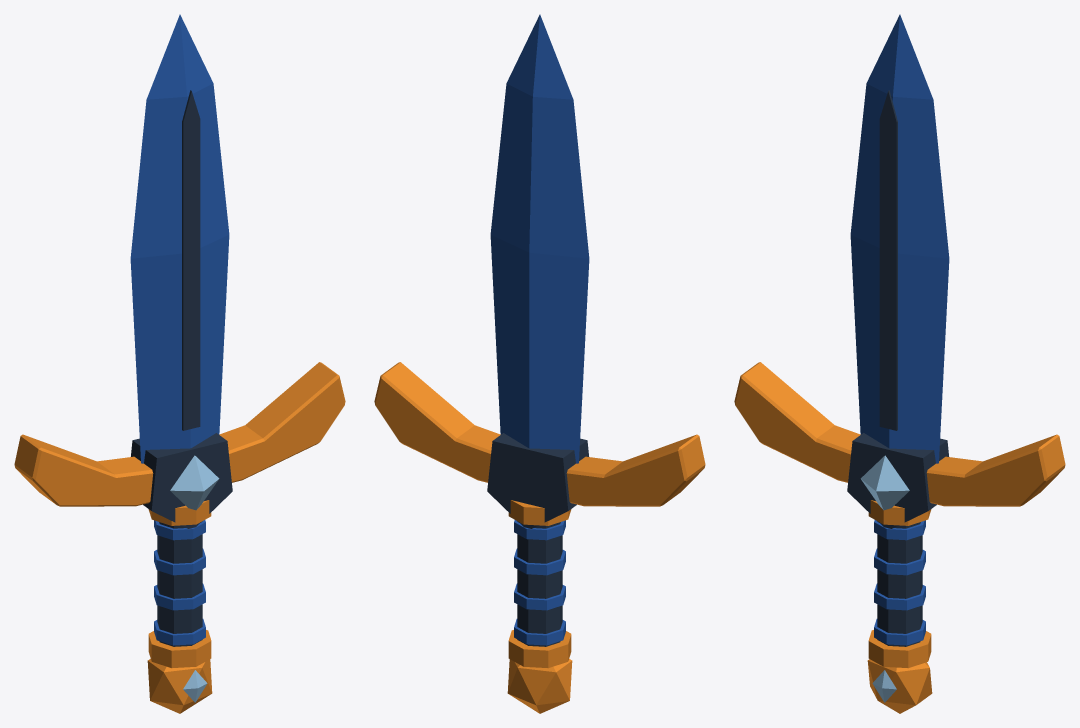
The picture shows the model from 3 angles, left to right: view 1: azimuth 30°, elevation 25°; view 2: azimuth 150°, elevation 25°; view 3: azimuth 330°, elevation 25°; orthographic projection.
Parts seen in each view (by area): view 1: Lâmina em planos, Guarda alada, Canal da lâmina, Moldura central, Punho, Pomo, Anel, Cristal central, Anel.001, Faixa do punho.002, Faixa do punho.001, Faixa do punho (+1 smaller); view 2: Lâmina em planos, Guarda alada, Moldura central, Punho, Pomo, Anel, Anel.001, Faixa do punho.002, Faixa do punho.001, Faixa do punho, Faixa do punho.003; view 3: Lâmina em planos, Guarda alada, Canal da lâmina, Moldura central, Punho, Pomo, Anel, Cristal central, Anel.001, Faixa do punho.002, Faixa do punho.001, Faixa do punho (+1 smaller).
Part boxes in pixels (x1=…): Lâmina em planos: x1=130, y1=14, x2=229, y2=463; Guarda alada: x1=14, y1=362, x2=345, y2=506; Canal da lâmina: x1=182, y1=90, x2=200, y2=430; Moldura central: x1=131, y1=433, x2=232, y2=528; Punho: x1=157, y1=521, x2=202, y2=646; Pomo: x1=147, y1=658, x2=212, y2=713; Anel: x1=148, y1=630, x2=211, y2=668; Cristal central: x1=170, y1=455, x2=219, y2=510; Anel.001: x1=148, y1=500, x2=211, y2=525; Faixa do punho.002: x1=154, y1=548, x2=205, y2=575; Faixa do punho.001: x1=154, y1=583, x2=205, y2=610; Faixa do punho: x1=154, y1=619, x2=205, y2=645; Lâmina em planos: x1=490, y1=14, x2=589, y2=463; Guarda alada: x1=374, y1=362, x2=705, y2=506; Moldura central: x1=487, y1=433, x2=588, y2=528; Punho: x1=517, y1=521, x2=562, y2=646; Pomo: x1=507, y1=658, x2=572, y2=713; Anel: x1=508, y1=630, x2=571, y2=668; Anel.001: x1=508, y1=500, x2=571, y2=525; Faixa do punho.002: x1=514, y1=548, x2=565, y2=575; Faixa do punho.001: x1=514, y1=583, x2=565, y2=610; Faixa do punho: x1=514, y1=619, x2=565, y2=645; Faixa do punho.003: x1=514, y1=520, x2=565, y2=540; Lâmina em planos: x1=850, y1=14, x2=949, y2=463; Guarda alada: x1=734, y1=362, x2=1065, y2=506; Canal da lâmina: x1=879, y1=90, x2=897, y2=430; Moldura central: x1=847, y1=433, x2=948, y2=528; Punho: x1=877, y1=521, x2=922, y2=646; Pomo: x1=867, y1=659, x2=932, y2=713; Anel: x1=868, y1=630, x2=931, y2=668; Cristal central: x1=860, y1=455, x2=909, y2=510; Anel.001: x1=868, y1=500, x2=931, y2=525; Faixa do punho.002: x1=874, y1=548, x2=925, y2=575; Faixa do punho.001: x1=874, y1=583, x2=925, y2=610; Faixa do punho: x1=874, y1=619, x2=925, y2=645.
Bounding box in the file's own units: 1.77 × 3.79 × 0.395.
